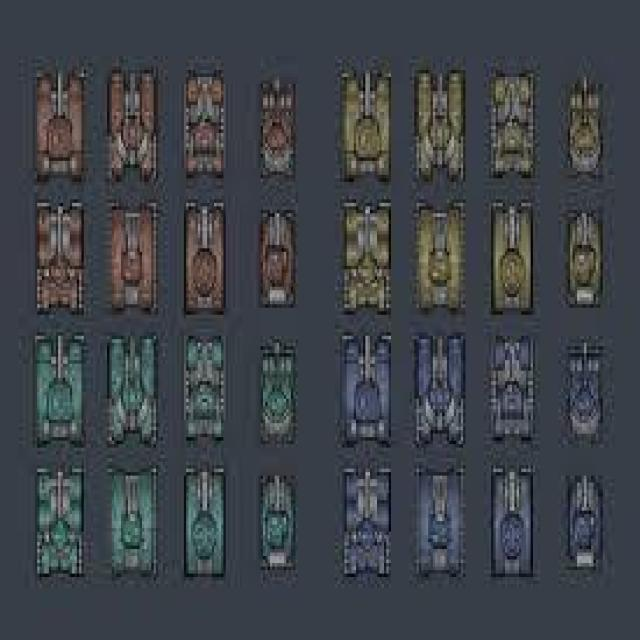MIL_MBT: (412, 61, 475, 194), (337, 56, 398, 189), (29, 58, 87, 194), (107, 61, 161, 191), (29, 334, 87, 453), (341, 330, 394, 453), (341, 196, 394, 318), (414, 332, 468, 451), (414, 196, 465, 318), (180, 63, 232, 182), (33, 203, 88, 315), (33, 463, 86, 579), (489, 465, 540, 581), (488, 61, 536, 184), (180, 198, 227, 323), (417, 462, 468, 577), (343, 467, 397, 575), (489, 194, 535, 320), (111, 463, 159, 582), (109, 332, 158, 448), (180, 462, 227, 581), (490, 339, 541, 448), (111, 203, 157, 318), (563, 467, 610, 575), (560, 341, 609, 439), (185, 332, 229, 441), (256, 201, 298, 313), (255, 465, 297, 577), (561, 205, 607, 306), (568, 66, 605, 189), (258, 339, 298, 448), (257, 77, 299, 178)
